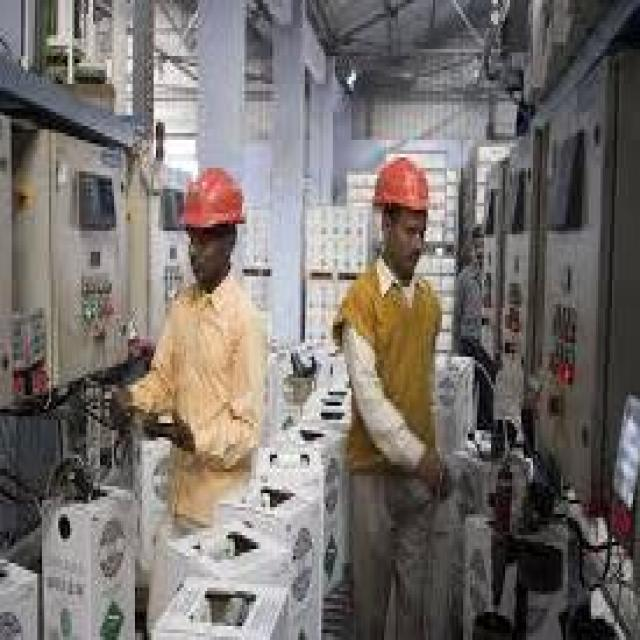Safety-Helmet: (172, 158, 256, 248), (363, 140, 440, 234)
